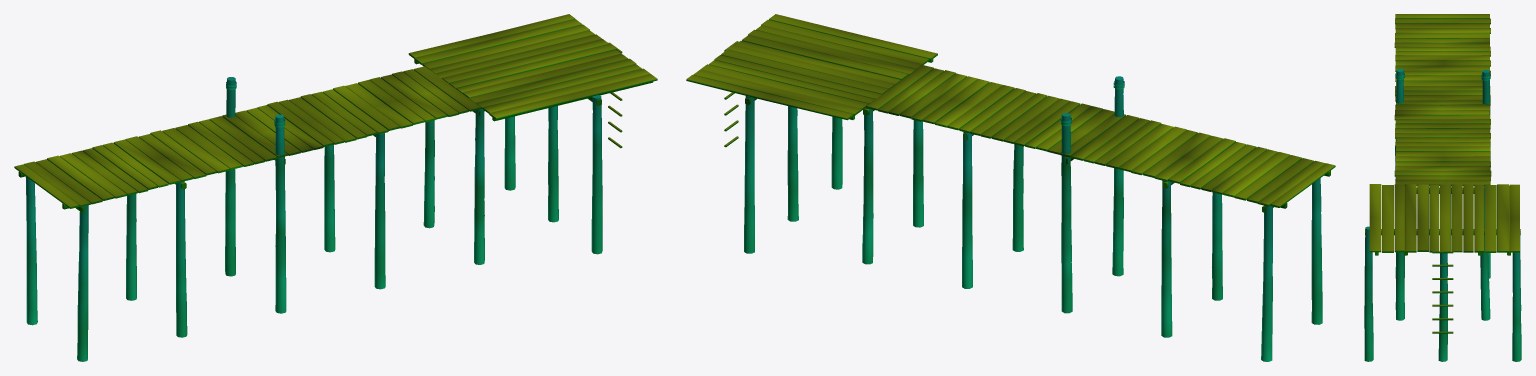
File: dock_haluna_short.glb
The picture shows the model from 3 angles, left to right: view 1: azimuth 30°, elevation 25°; view 2: azimuth 150°, elevation 25°; view 3: azimuth 270°, elevation 25°; orthographic projection. The views are drawn at different scales.
Visible parts, largest first — view 1: dock_haluna_short; view 2: dock_haluna_short; view 3: dock_haluna_short.
Boxes of the visible parts, x1,y1,x2,y2 form: dock_haluna_short: (14,14,657,361); dock_haluna_short: (686,14,1335,361); dock_haluna_short: (1364,14,1521,361).
Size of what is drawn, in the model's own units: 14.48 by 4.7 by 4.04.
